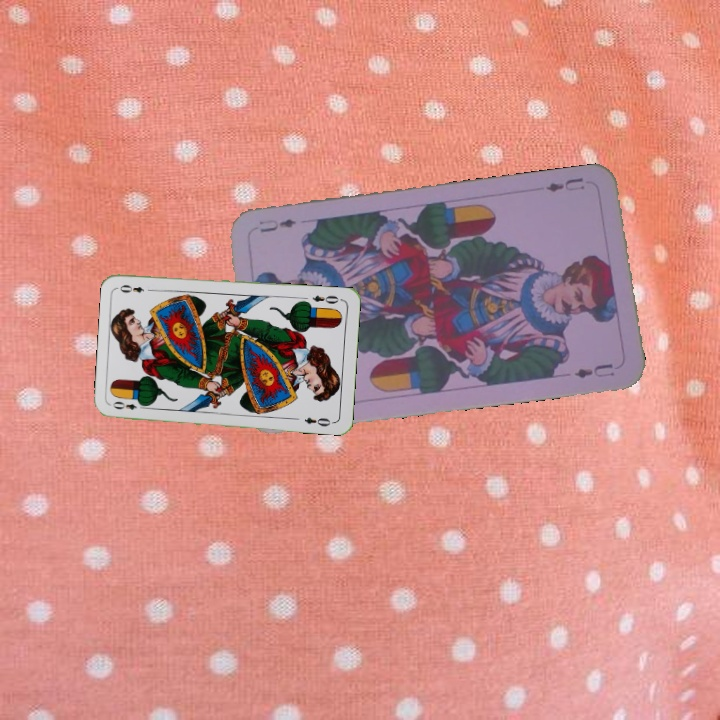EO: (109, 397, 148, 412), (308, 291, 341, 306)
EU: (541, 173, 587, 195)
